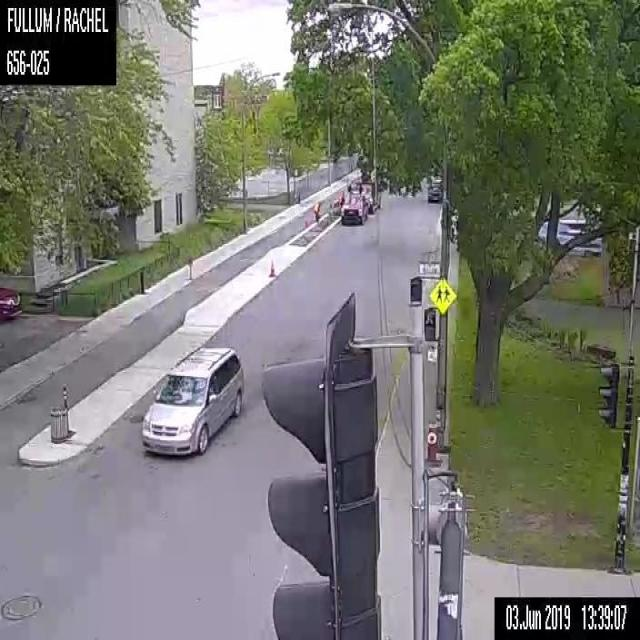construction: (268, 258, 276, 276)
pedestrian: (313, 201, 320, 222)
vehicle: (140, 346, 244, 454), (340, 192, 367, 223), (0, 286, 21, 318), (361, 190, 380, 213), (427, 184, 442, 202)
